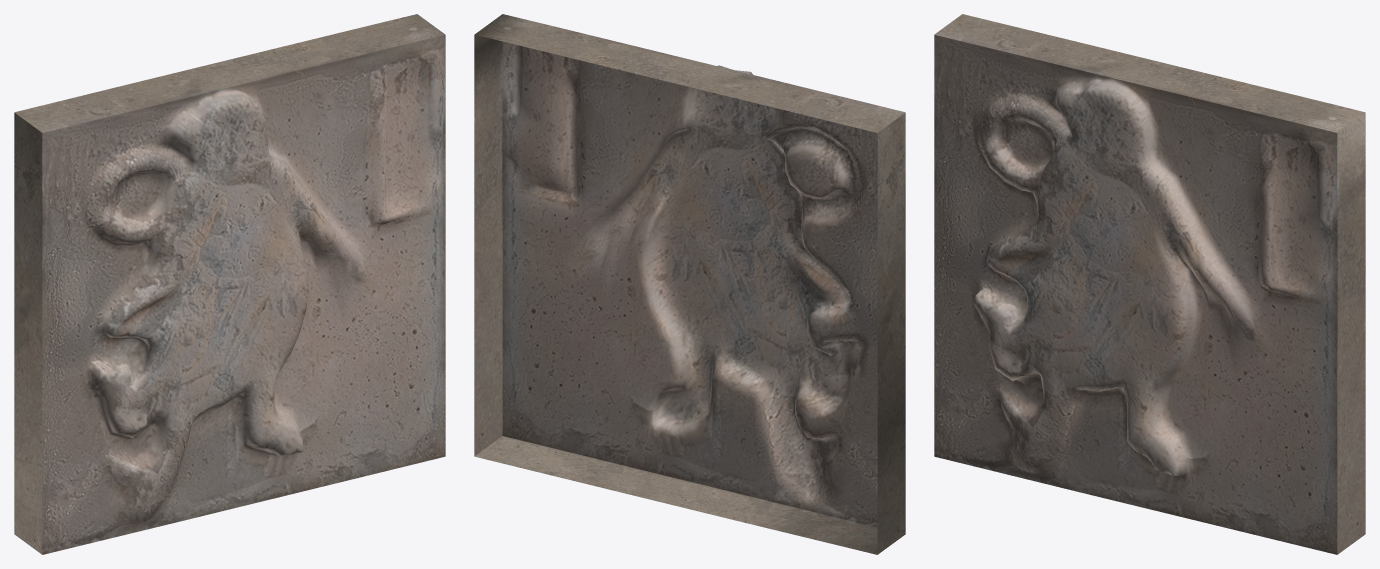
3 views of the same model, side by side, from view 1: azimuth 30°, elevation 25°; view 2: azimuth 150°, elevation 25°; view 3: azimuth 330°, elevation 25° (orthographic).
Parts seen in each view (by area): view 1: F5Middle; view 2: F5Middle; view 3: F5Middle.
Boxes of the visible parts, box(x1,y1,x2,y2) form: F5Middle: box(14, 14, 445, 554); F5Middle: box(474, 14, 905, 554); F5Middle: box(934, 14, 1365, 554).
Bounding box in the file's own units: 0.823 × 0.8234 × 0.142.
1 material, 1 textured.
